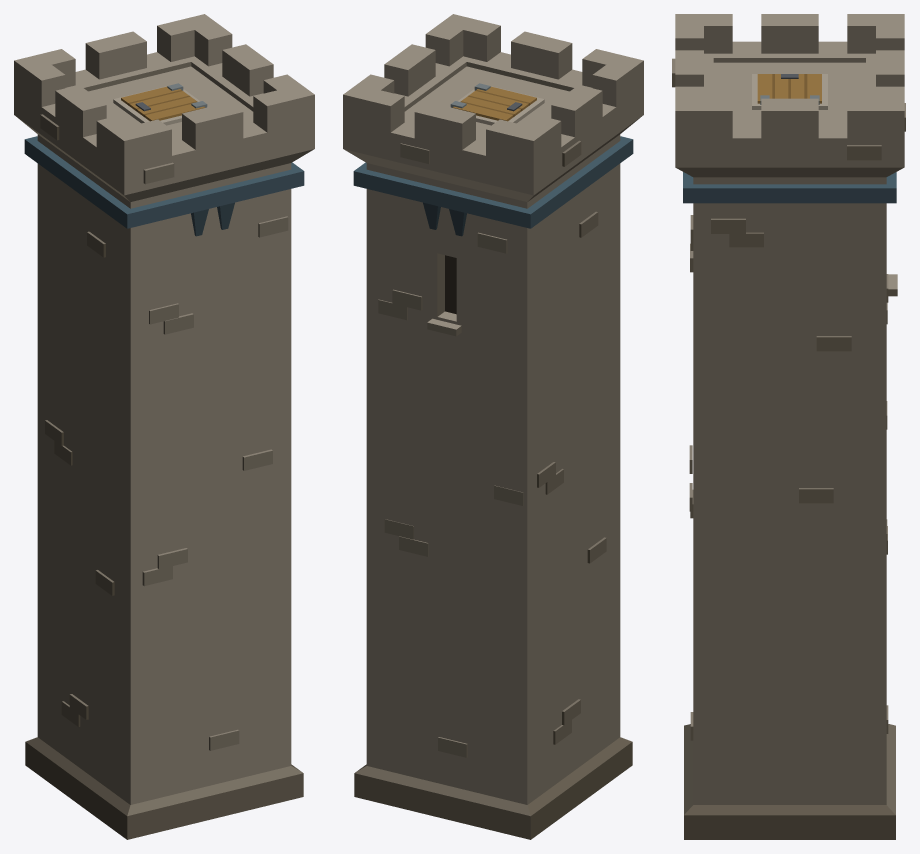
File: SF_Bld_Castle_Wall_Tower_02.fbx
The picture shows the model from 3 angles, left to right: view 1: azimuth 30°, elevation 25°; view 2: azimuth 150°, elevation 25°; view 3: azimuth 270°, elevation 25°; orthographic projection. The views are drawn at different scales.
Parts seen in each view (by area): view 1: SF_Bld_Castle_Wall_Tower_02; view 2: SF_Bld_Castle_Wall_Tower_02; view 3: SF_Bld_Castle_Wall_Tower_02.
Part boxes in pixels (left/top/right/bottom): SF_Bld_Castle_Wall_Tower_02: left=14, top=14, right=314, bottom=839; SF_Bld_Castle_Wall_Tower_02: left=343, top=14, right=643, bottom=839; SF_Bld_Castle_Wall_Tower_02: left=672, top=14, right=905, bottom=839.
Size of the model in its own units: 8.4 by 28.91 by 8.36.
